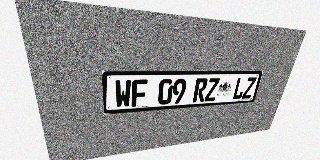0: (157, 79, 173, 105)
9: (171, 79, 187, 104)
F: (131, 79, 148, 107)
L: (232, 77, 247, 100)
R: (192, 78, 208, 102)
W: (114, 80, 131, 108)
Z: (204, 78, 220, 102), (241, 77, 257, 99)
